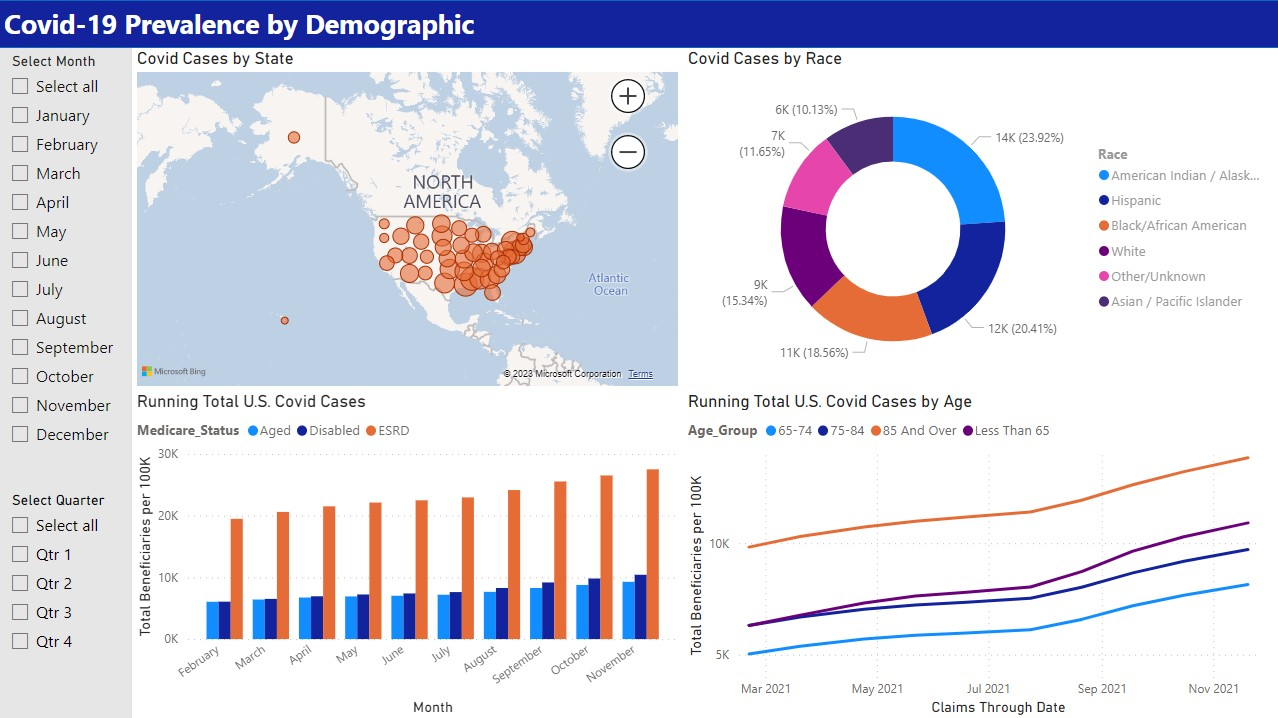

This screenshot's page, from the dashboard's own definition file:
{"tool":"powerbi","page":{"name":"Page 1","canvas":[1280,720],"ordinal":0},"visuals":[{"type":"shape","box":[0,48.2,132.7,671.8],"z":0},{"type":"shape","box":[0,0,1279.6,48.2],"z":1000},{"type":"map","title":"Covid Cases by State","fields":{"Category":["Covid_cases_by_state.State"],"Size":["Sum(Covid_cases_by_state.Beneficiary_Count_per_100K)"]},"box":[132.7,48.2,551.2,342.5],"z":2000},{"type":"textbox","box":[0,0,505.3,48.2],"z":3000},{"type":"clusteredColumnChart","title":"Running Total U.S. Covid Cases","fields":{"Category":["Covid_by_MC_status.Claims_Thru_Dt.Variation.Date Hierarchy.Month"],"Y":["Sum(Covid_by_MC_status.Beneficiary_Count_per_100K)"],"Series":["Covid_by_MC_status.Medicare_Status"]},"box":[132.7,390.8,551.2,329.2],"z":4000},{"type":"lineChart","title":"Running Total U.S. Covid Cases by Age","fields":{"Category":["Covid_by_age.Claims_Thru_Dt"],"Y":["Sum(Covid_by_age.Beneficiary_Count_per_100K)"],"Series":["Covid_by_age.Age_Group"]},"box":[683.8,390.8,595.8,329.2],"z":5000},{"type":"donutChart","title":"Covid Cases by Race","fields":{"Category":["Covid_by_race.Race"],"Y":["Max(Covid_by_race.Beneficiary_Count_per_100K)"]},"box":[683.8,48.2,595.8,342.5],"z":6000},{"type":"slicer","fields":{"Values":["Covid_by_MC_status.Claims_Thru_Dt.Variation.Date Hierarchy.Month"]},"box":[0,48.2,132.7,410.1],"z":7000},{"type":"slicer","fields":{"Values":["Covid_by_MC_status.Claims_Thru_Dt.Variation.Date Hierarchy.Quarter"]},"box":[0,487.2,132.7,199],"z":8000}]}

Visuals, with their boxes in screenshot pixels (x1, y1, x2, y2), scaled from the page's 1280x720 canvas onto the 1278x718 screenshot:
shape: bbox=[0, 48, 132, 717]
shape: bbox=[0, 0, 1277, 48]
"Covid Cases by State" map: bbox=[132, 48, 683, 390]
textbox: bbox=[0, 0, 505, 48]
"Running Total U.S. Covid Cases" clusteredColumnChart: bbox=[132, 390, 683, 717]
"Running Total U.S. Covid Cases by Age" lineChart: bbox=[683, 390, 1277, 717]
"Covid Cases by Race" donutChart: bbox=[683, 48, 1277, 390]
slicer - Covid_by_MC_status.Claims_Thru_Dt.Variation.Date Hierarchy.Month: bbox=[0, 48, 132, 457]
slicer - Covid_by_MC_status.Claims_Thru_Dt.Variation.Date Hierarchy.Quarter: bbox=[0, 486, 132, 684]
